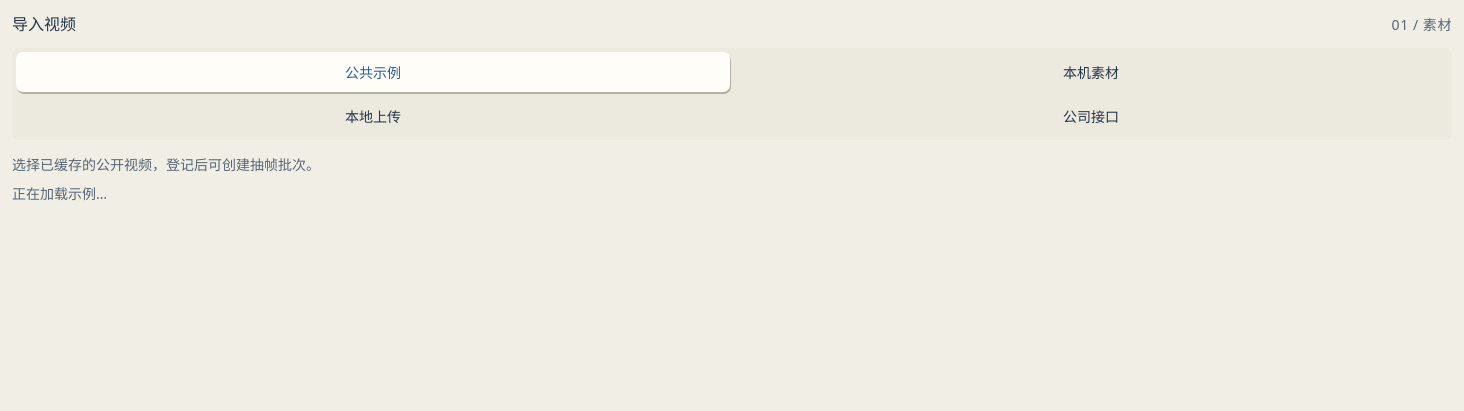
Test case: rechecks upload availability after Mac recovers without hiding the upload entrance
Click the tab "本地上传".
click(373, 116)  # box x1=16 y1=96 x2=730 y2=136
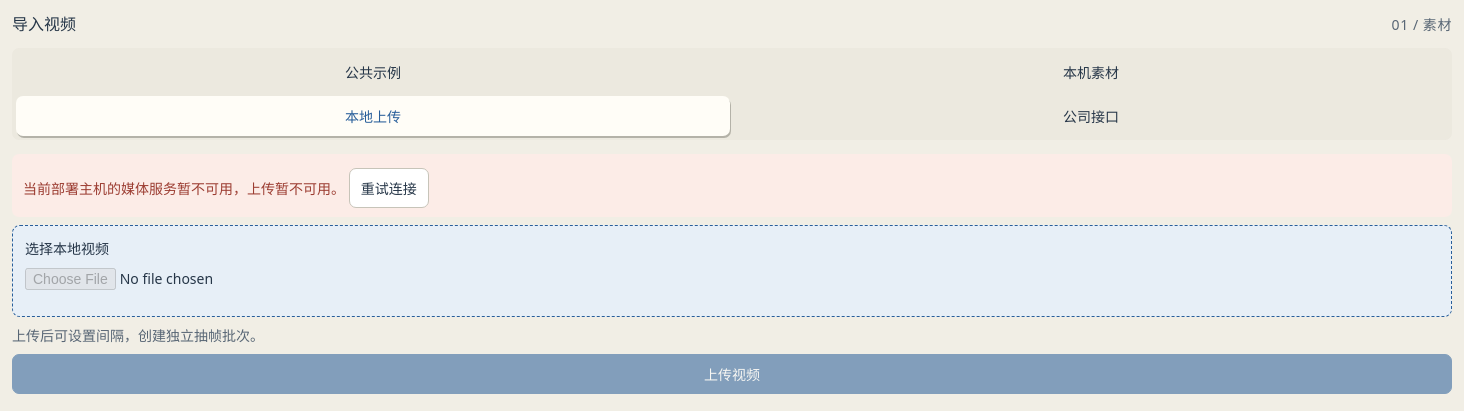
Result: the text "当前部署主机的媒体服务暂不可用，上传暂不可用。 重试连接" is shown at x1=12 y1=154 x2=1452 y2=217
Result: the file field with test id "upload-file" is disabled at x1=25 y1=264 x2=1439 y2=304
Click the button "重试连接".
click(389, 188)  # box x1=349 y1=168 x2=429 y2=208
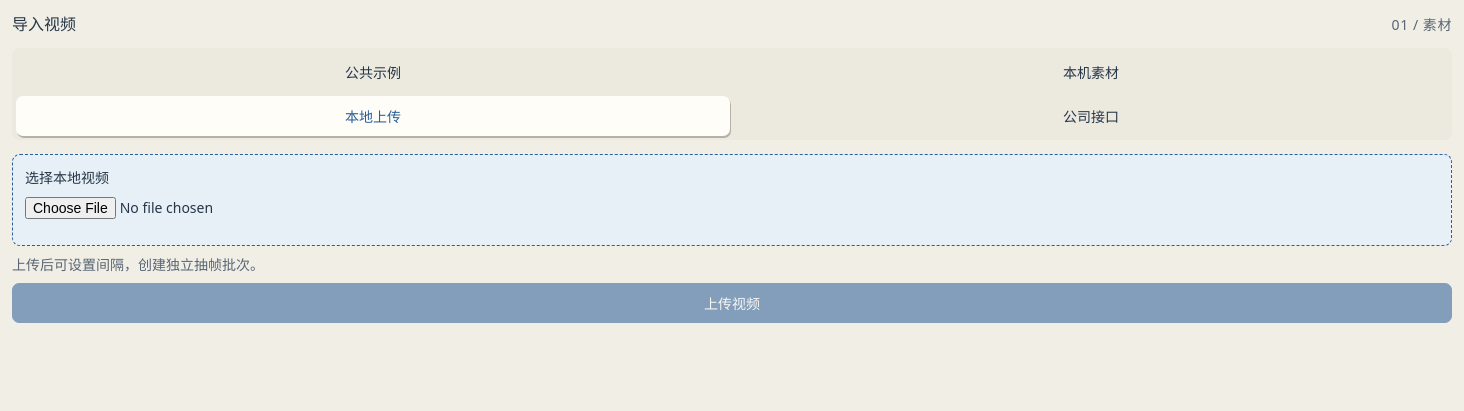
Result: the file field with test id "upload-file" is enabled at x1=25 y1=193 x2=1439 y2=233
